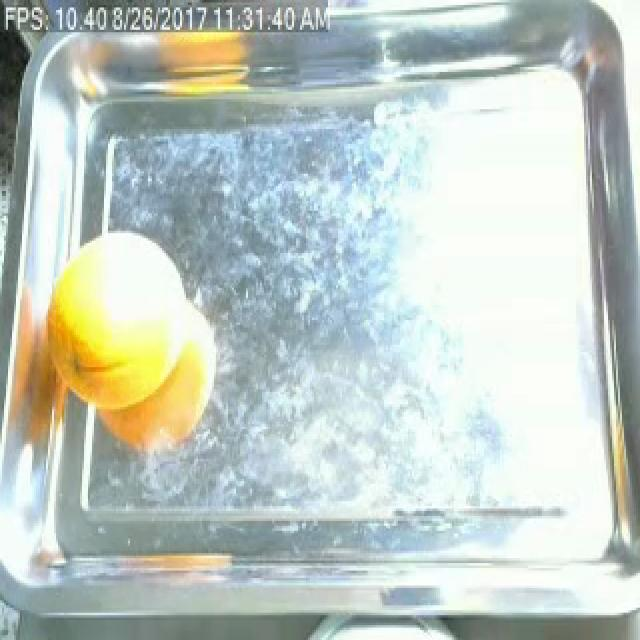Fruit: (36, 213, 202, 459), (146, 17, 262, 102)
